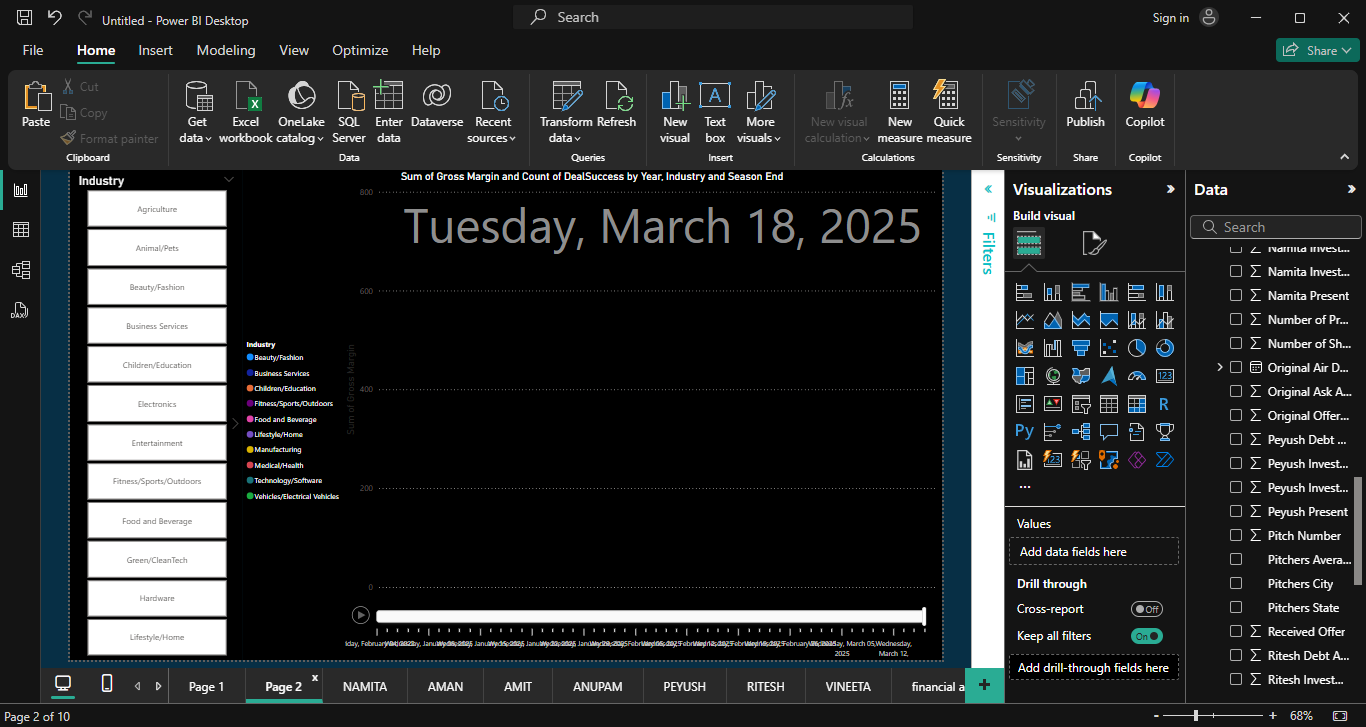

The dashboard page shown, as its layout file describes it:
{"tool":"powerbi","page":{"name":"Page 2","canvas":[1280,720],"ordinal":1},"visuals":[{"type":"scatterChart","fields":{"Y":["Shark_Tank_India_Cleaned.Gross Margin"],"Series":["Shark_Tank_India_Cleaned.Industry"],"Size":["Shark_Tank_India_Cleaned.DealSuccess"],"Category":["Shark_Tank_India_Cleaned.Season Start.Variation.Date Hierarchy.Year","Shark_Tank_India_Cleaned.Season Start.Variation.Date Hierarchy.Month","Shark_Tank_India_Cleaned.Season End.Variation.Date Hierarchy.Year","Shark_Tank_India_Cleaned.Season End.Variation.Date Hierarchy.Month"],"Play":["Shark_Tank_India_Cleaned.Season End"]},"box":[254.2,0,1025.6,720],"z":0},{"type":"slicer","fields":{"Values":["Shark_Tank_India_Cleaned.Industry"]},"box":[0,0,254.2,720],"z":1000}]}

Visuals, with their boxes on the page's 1280x720 design canvas (x1, y1, x2, y2). These are canvas units, not pixel positions in the 1366x727 screenshot, which may show the page scaled, cropped or inside an application window:
scatterChart - Shark_Tank_India_Cleaned.Gross Margin x Shark_Tank_India_Cleaned.Industry: locate(254, 0, 1280, 720)
slicer - Shark_Tank_India_Cleaned.Industry: locate(0, 0, 254, 720)
